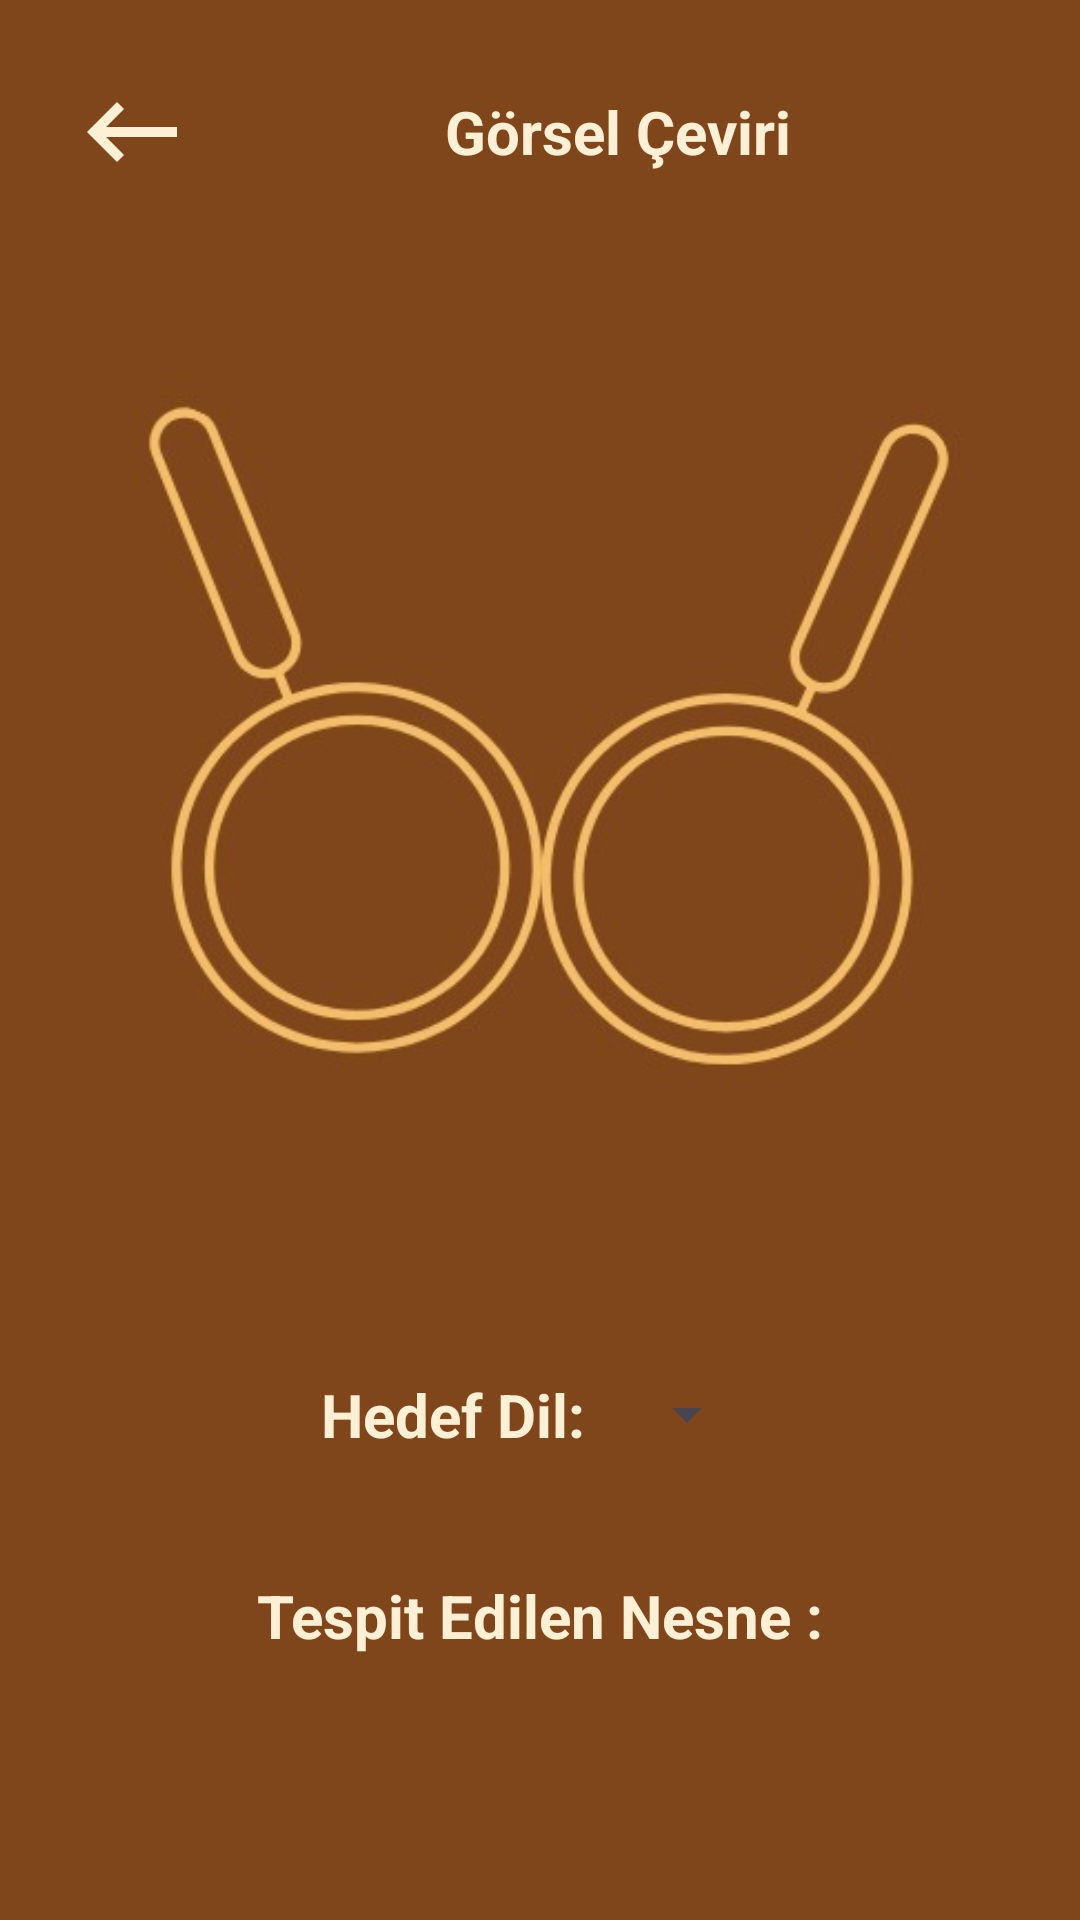

Screen size 1080px×1920px. Icon name, then its box in pixels as bbox=[x1, y1, x2, y2]:
back: bbox=[87, 102, 177, 162]
